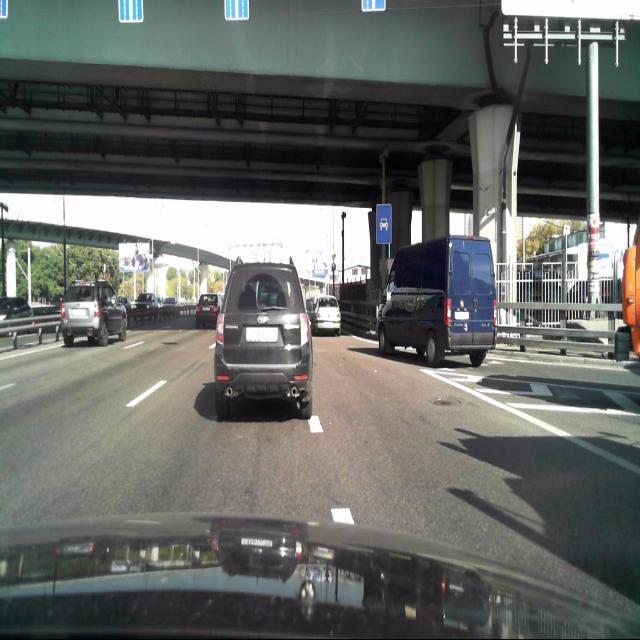road sign: (376, 204, 392, 242)
